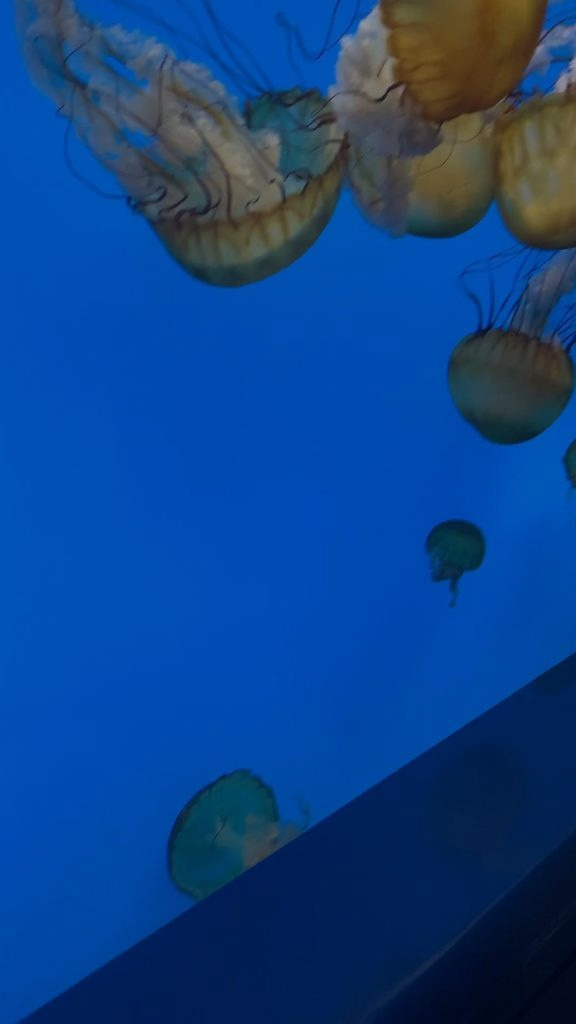jellyfish: (373, 0, 547, 120), (563, 446, 575, 488)
stingray: (119, 84, 347, 292), (324, 6, 518, 234), (443, 319, 575, 447), (164, 768, 282, 904), (484, 80, 574, 252), (422, 516, 490, 574), (563, 430, 575, 490)
